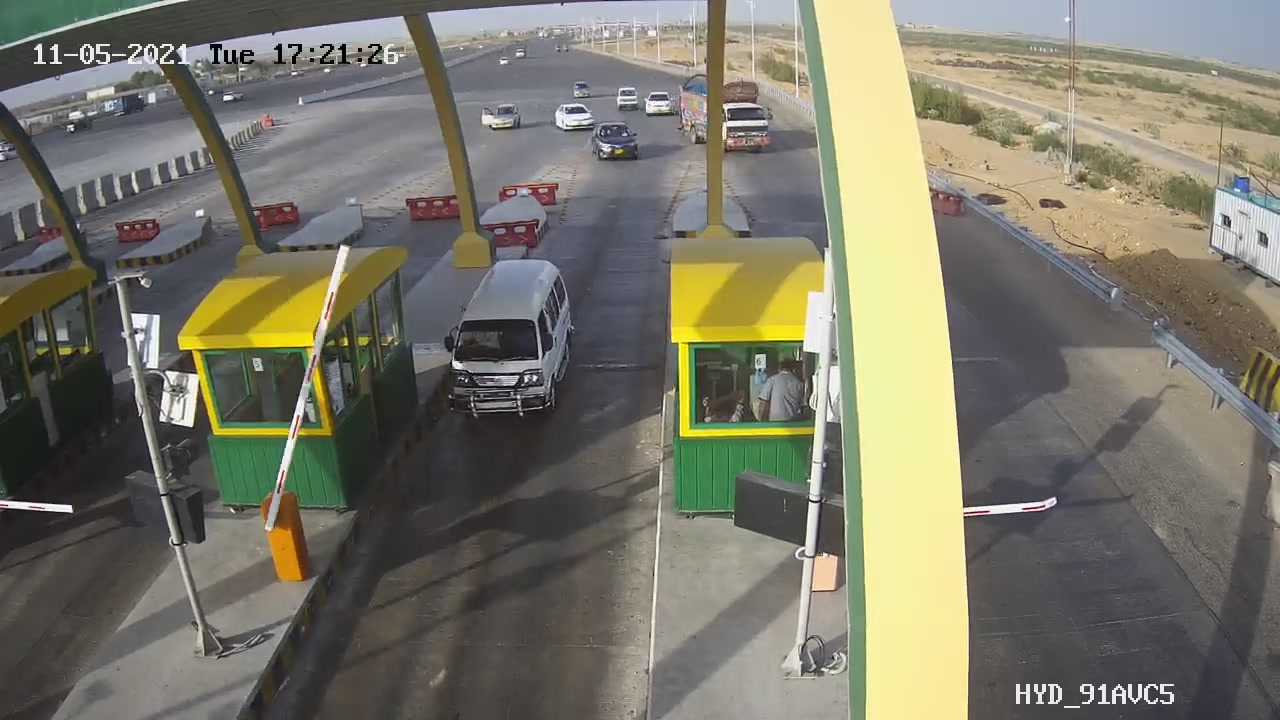F1: (429, 249, 587, 436)
